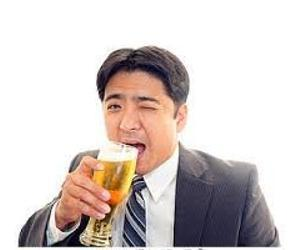Drunk: (103, 76, 177, 168)
